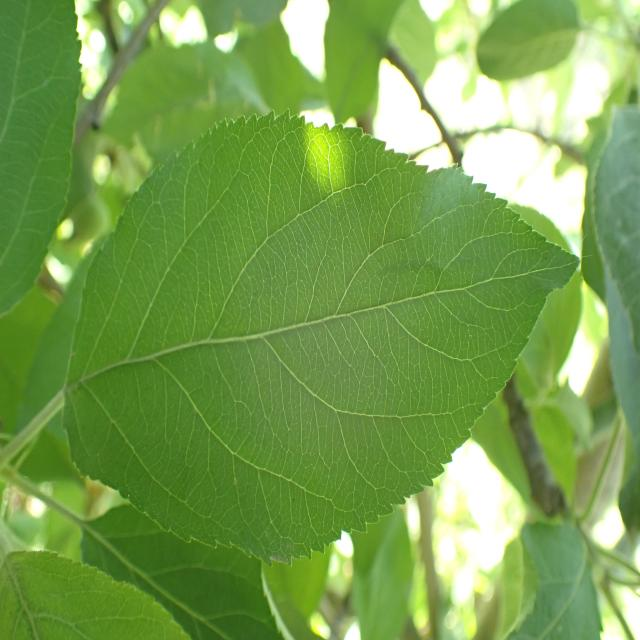healthy: (64, 109, 578, 565), (79, 503, 286, 640), (0, 0, 83, 316), (586, 103, 640, 533), (0, 547, 192, 639), (500, 518, 603, 640)
